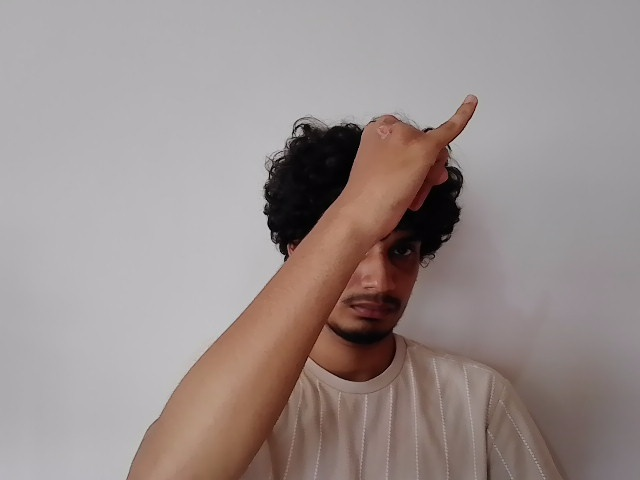bad: (331, 94, 480, 252)
